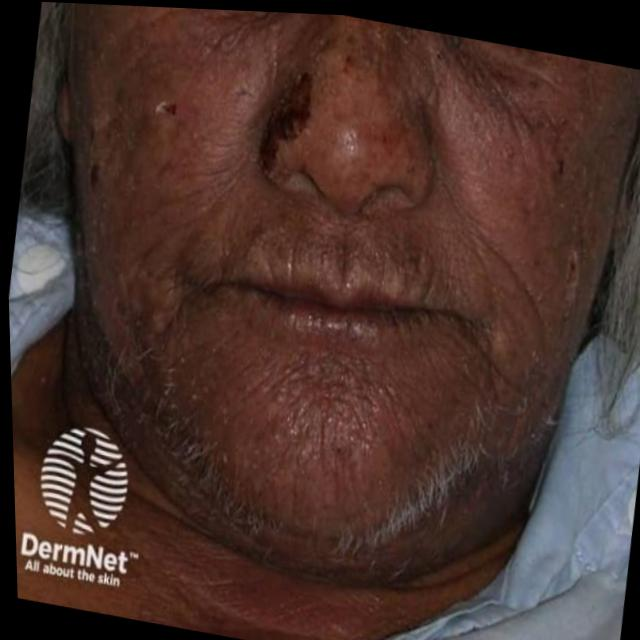Eczema: (67, 86, 155, 280), (543, 181, 606, 324)
